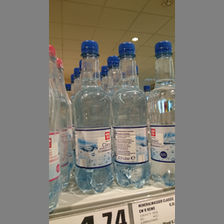water: (73, 39, 117, 195), (111, 41, 150, 189), (148, 40, 174, 190)
